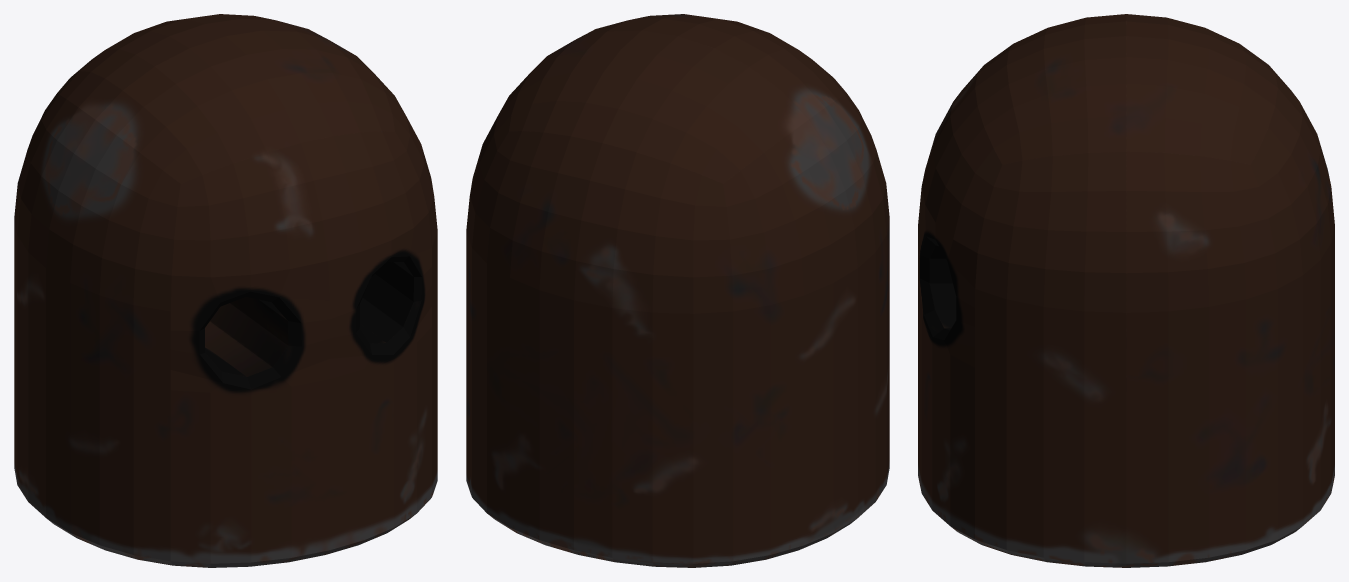
File: robot_head.fbx
3 renders of one model, left to right at view 1: azimuth 30°, elevation 25°; view 2: azimuth 150°, elevation 25°; view 3: azimuth 270°, elevation 25°, orthographic.
Visible parts, largest first — view 1: Cube; view 2: Cube; view 3: Cube.
Boxes of the visible parts, box(x1,y1,x2,y2) form: Cube: box(14, 14, 437, 567); Cube: box(466, 14, 889, 567); Cube: box(918, 14, 1334, 567).
Bounding box in the file's own units: 100 × 130 × 100.
